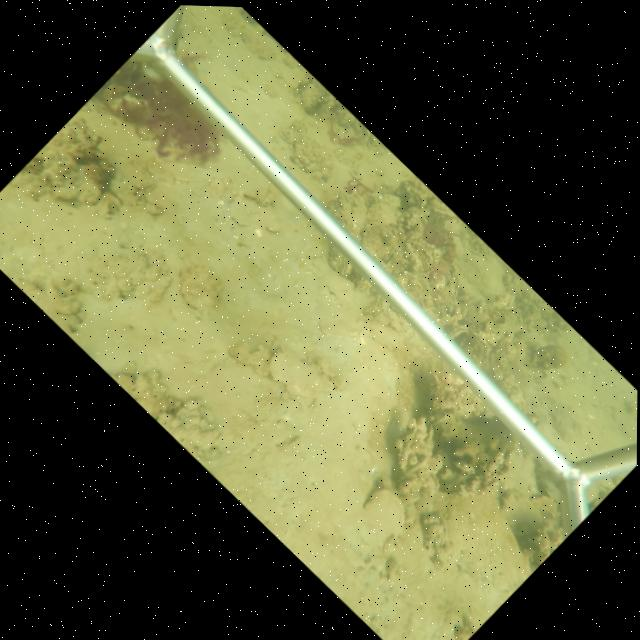Oyster-Closed: (360, 320, 406, 351), (397, 432, 413, 471), (447, 325, 469, 339), (361, 304, 380, 317), (352, 277, 367, 292)
Oyster-Indeterminate: (266, 344, 334, 400), (360, 486, 407, 553), (177, 266, 224, 313)
